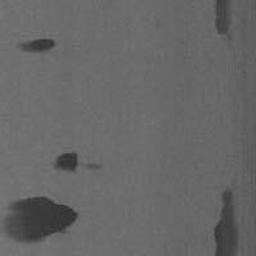Oil spot: (0, 195, 79, 246), (211, 187, 241, 256), (51, 150, 106, 177), (214, 0, 236, 51), (15, 36, 58, 54)
